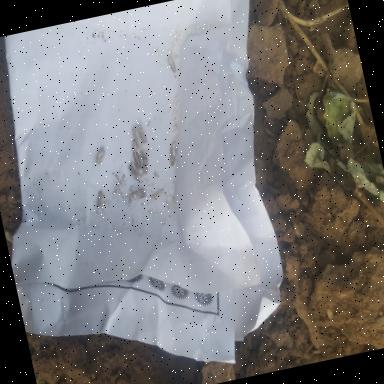pbw: (131, 126, 144, 154), (166, 143, 180, 167), (94, 190, 107, 214), (128, 160, 142, 182), (91, 146, 107, 165), (128, 187, 148, 201), (139, 154, 151, 177), (131, 138, 143, 159), (137, 123, 148, 145), (132, 148, 142, 172), (166, 54, 176, 74)
